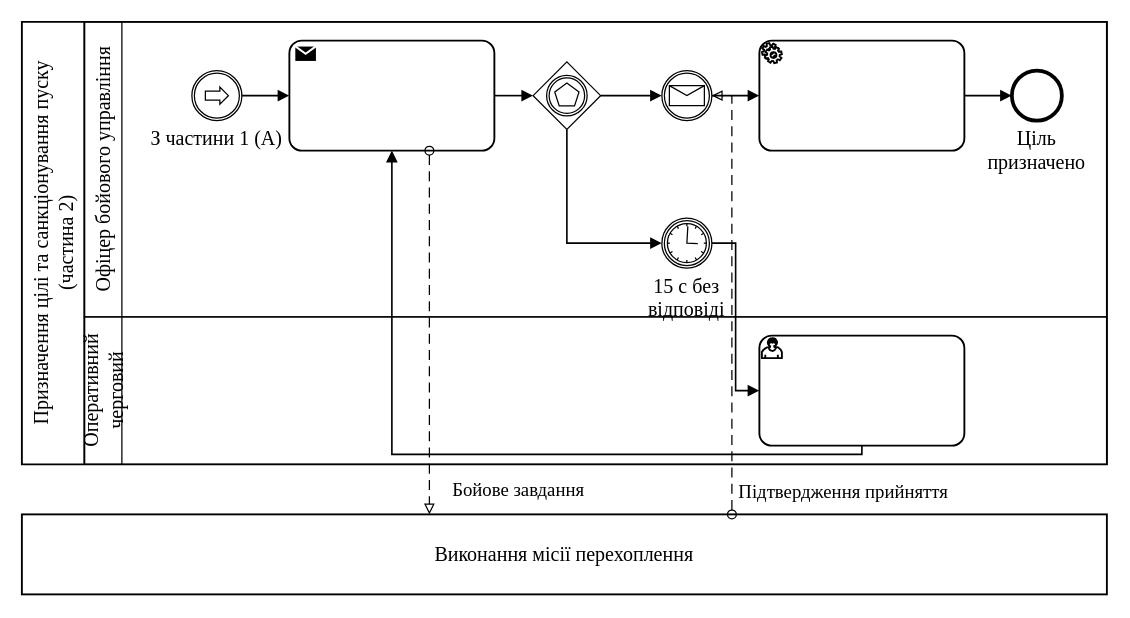
The diagram is 1130 pixels wide and 618 high, and some of its shapes have lost their labels. The shapes that lost their labels are listed below. From the top down, each one's centre as x and y in pixels, then its label:
At (x=391, y=95): "Передати бойове завдання розрахунку".
At (x=686, y=95): "Прийняття підтверджено".
At (x=861, y=95): "Зафіксувати призначення цілі".
At (x=861, y=390): "Обрати резервний розрахунок".
